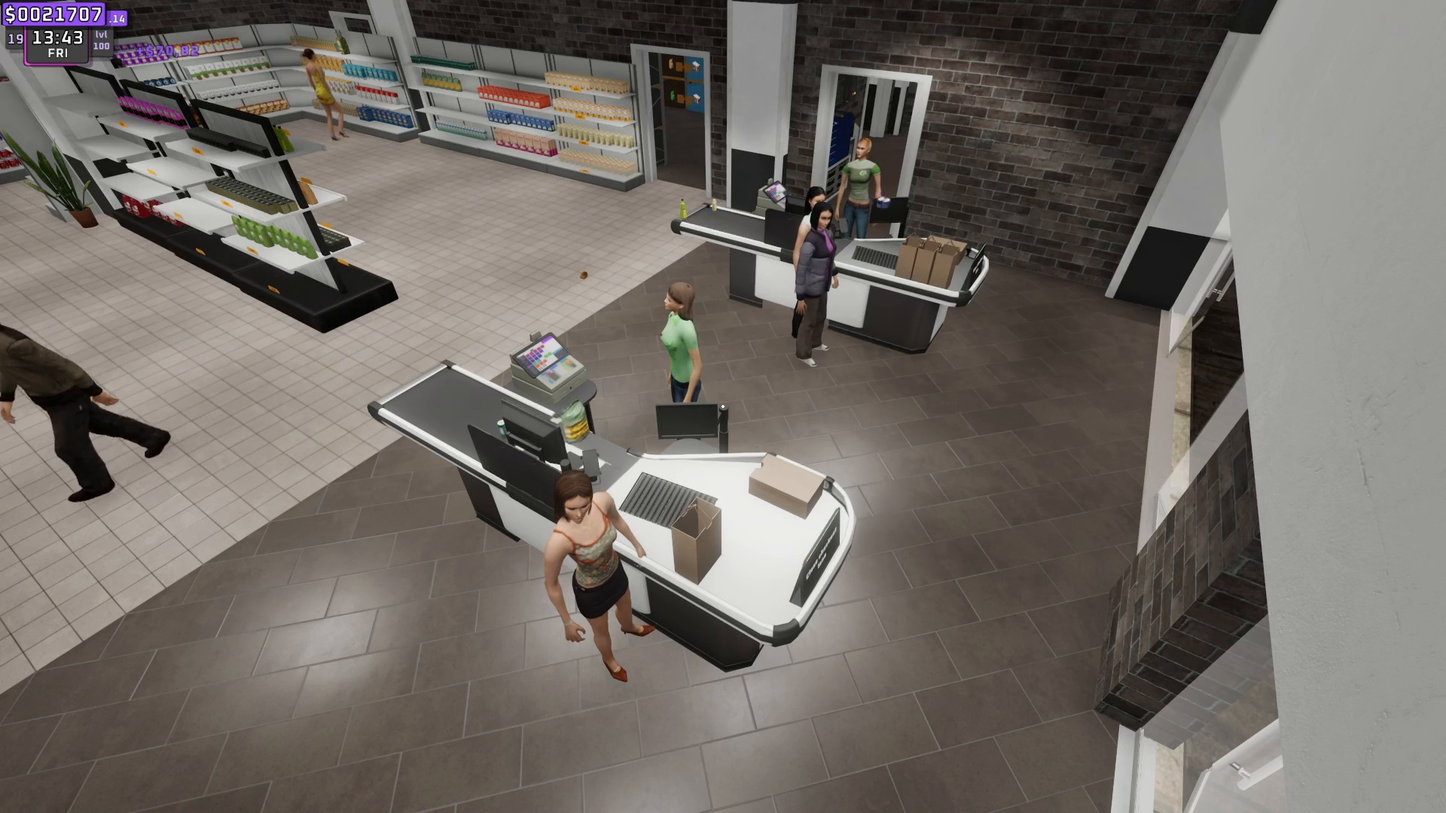Client: (547, 472, 660, 674), (796, 207, 833, 364), (796, 187, 821, 346)
Employee: (660, 291, 710, 398), (842, 134, 878, 230)
